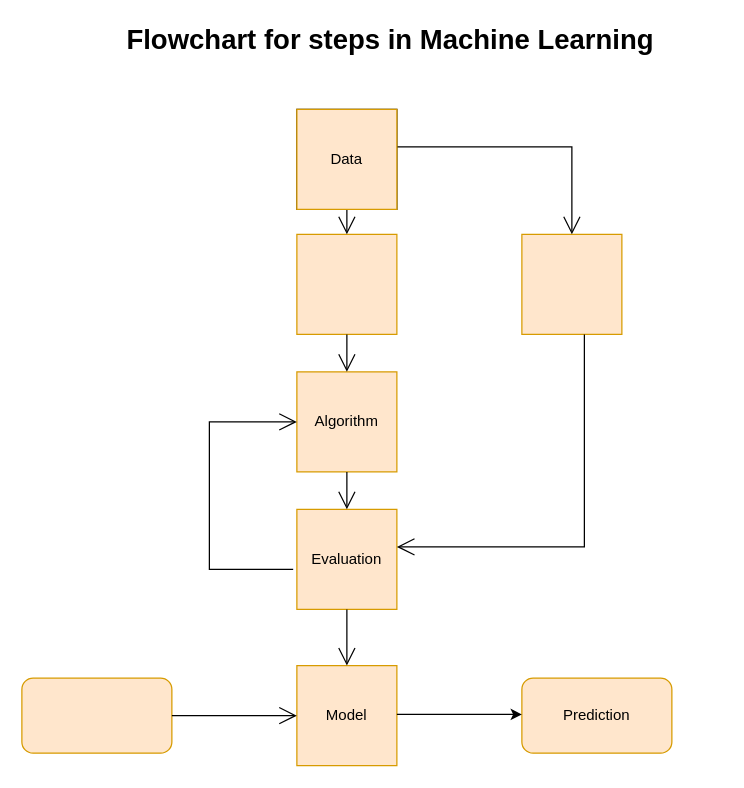
Image size: 744x788. Some labels were removed from this diagram. The centre of each missing label's shape, as x and y in pixels:
Production Data: [96,715]
Testing Dataset: [571,283]
Training Dataset: [346,283]
